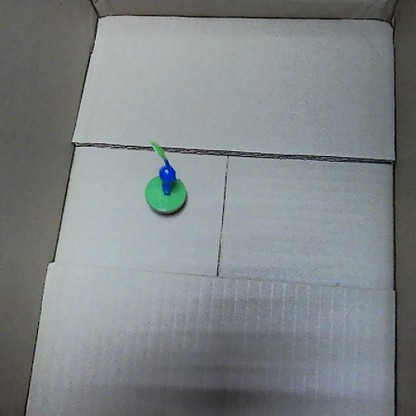leafairy: (145, 138, 185, 217)
